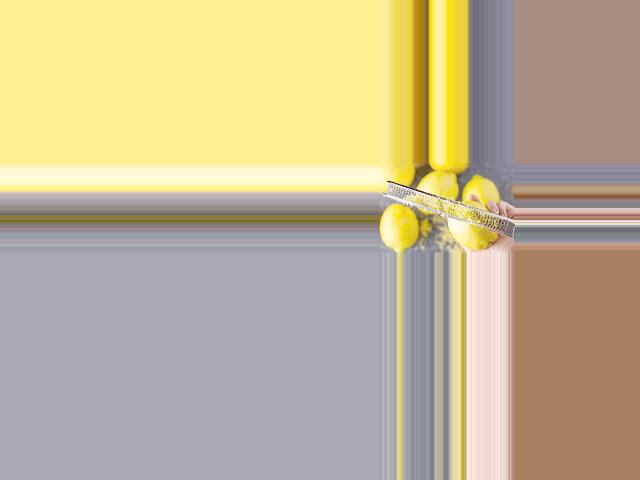lemon: (380, 204, 426, 251)
